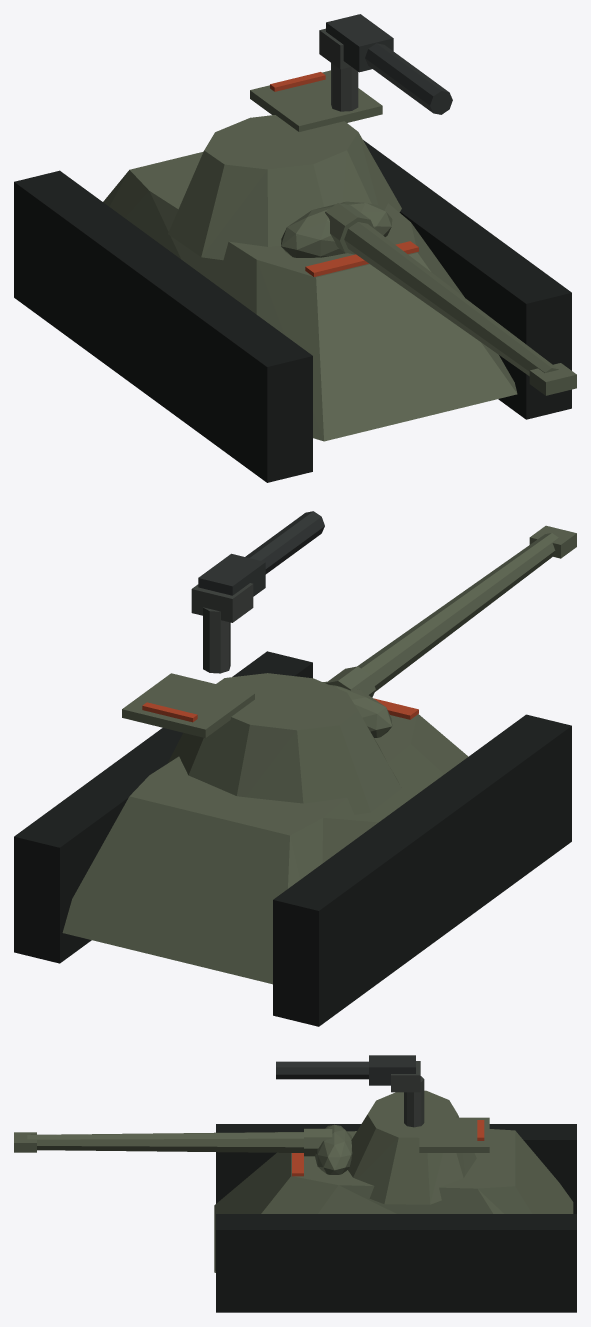
Rendered from Bastion_MT12_LOD1.obj.
The picture shows the model from 3 angles, top to bottom: view 1: azimuth 30°, elevation 25°; view 2: azimuth 150°, elevation 25°; view 3: azimuth 270°, elevation 25°; orthographic projection. The views are drawn at different scales.
Visible parts, largest first — view 1: Bastion_MT12_LOD1; view 2: Bastion_MT12_LOD1; view 3: Bastion_MT12_LOD1.
Part boxes in pixels (left/top/right/bottom): Bastion_MT12_LOD1: left=14, top=14, right=576, bottom=482; Bastion_MT12_LOD1: left=14, top=511, right=576, bottom=1026; Bastion_MT12_LOD1: left=14, top=1055, right=576, bottom=1312.
Bounding box in the file's own units: 3.72 × 3.61 × 8.35.
Materials: 1 (1 with a texture image).
